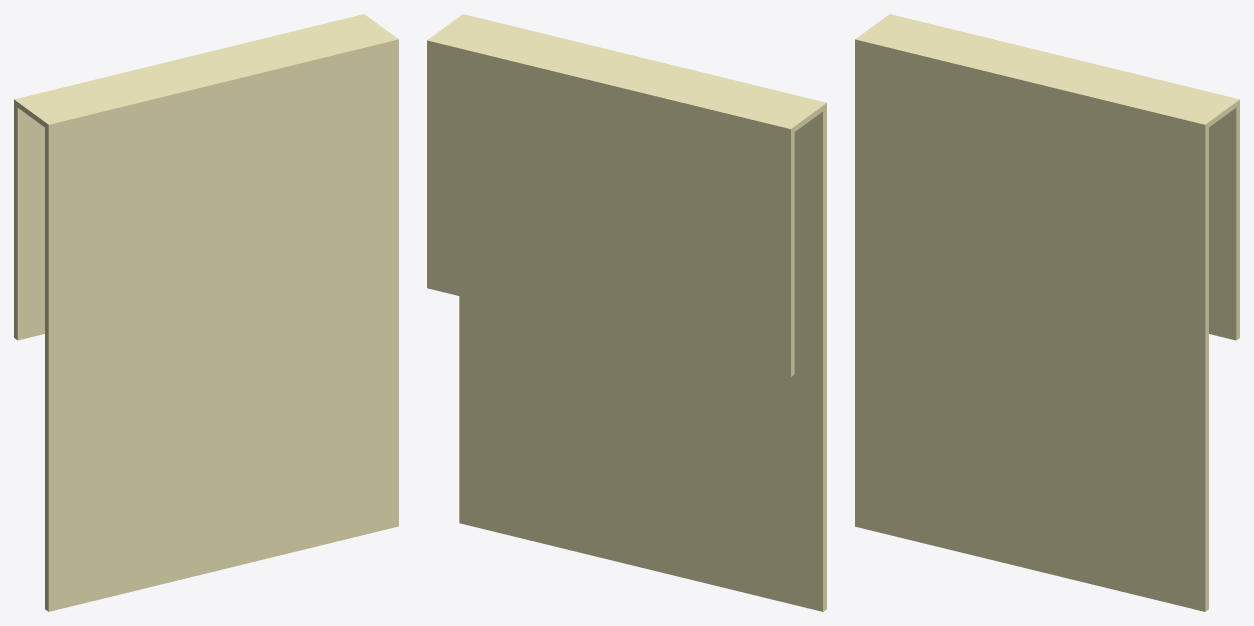
File: Itr_Towel_02.FBX
3 views of the same model, side by side, from view 1: azimuth 30°, elevation 25°; view 2: azimuth 150°, elevation 25°; view 3: azimuth 330°, elevation 25° (orthographic). The views are drawn at different scales.
Parts seen in each view (by area): view 1: Itr_Towel_02; view 2: Itr_Towel_02; view 3: Itr_Towel_02.
Part boxes in pixels (x1,y1,x2,y2): Itr_Towel_02: (14,14,398,611); Itr_Towel_02: (427,14,826,611); Itr_Towel_02: (855,14,1239,611).
Bounding box in the file's own units: 17.26 × 22.96 × 2.97.
